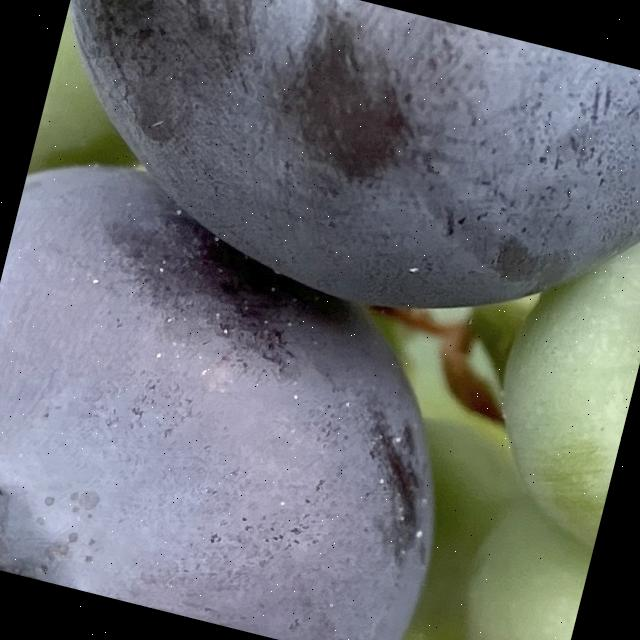Blueberries: (0, 136, 506, 640), (15, 0, 640, 376), (465, 155, 640, 557)
